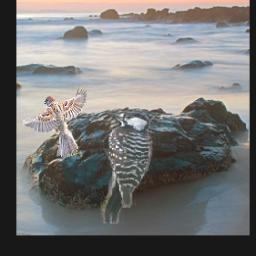Sparrow: (19, 86, 87, 157)
Woodpecker: (100, 108, 153, 224)
